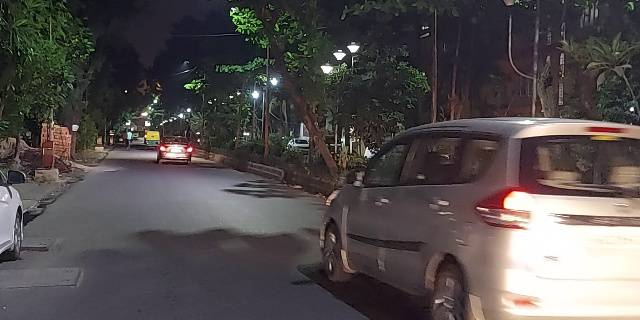Car: (320, 117, 640, 320), (156, 135, 192, 164)
